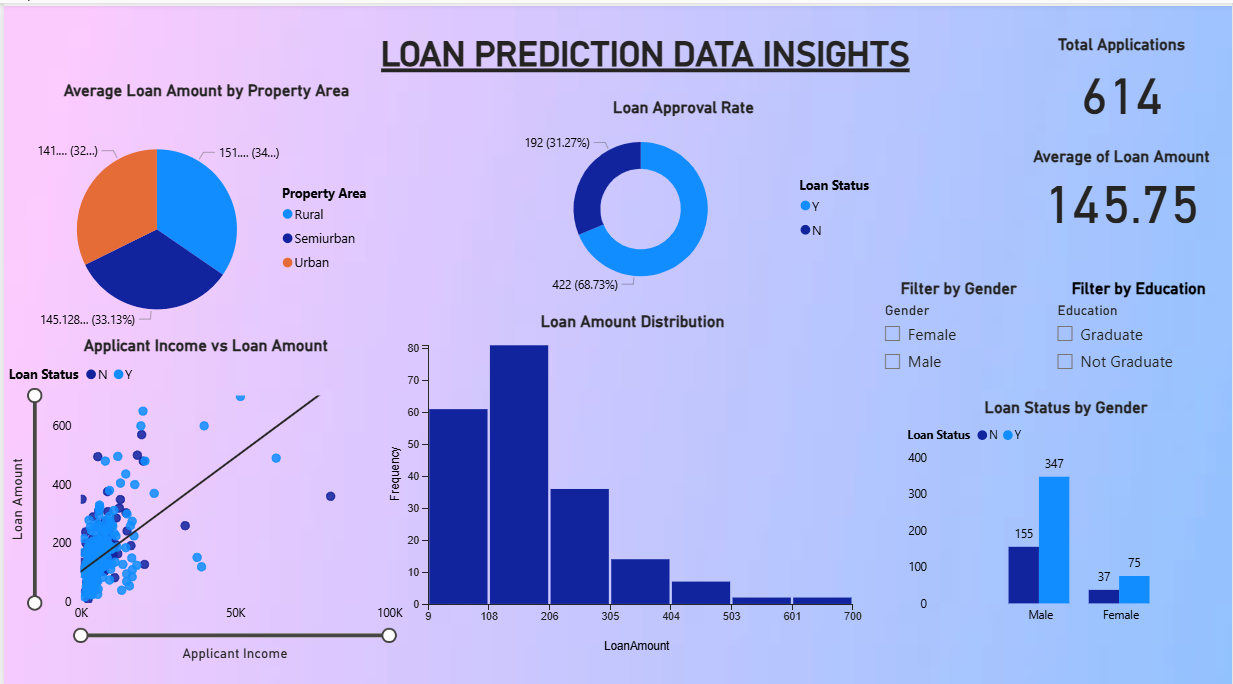

The dashboard page shown, as its layout file describes it:
{"tool":"powerbi","page":{"name":"Page 1","canvas":[1280,720],"ordinal":0},"visuals":[{"type":"clusteredColumnChart","title":"Loan Status by Gender","fields":{"Category":["LOAN PREDICTION DATASET (2).Gender"],"Y":["CountNonNull(LOAN PREDICTION DATASET (2).Loan_Status)"],"Series":["LOAN PREDICTION DATASET (2).Loan_Status"]},"box":[936.2,411.1,340.7,253.2],"z":0},{"type":"scatterChart","title":"Applicant Income vs Loan Amount ","fields":{"X":["LOAN PREDICTION DATASET (2).ApplicantIncome"],"Y":["LOAN PREDICTION DATASET (2).LoanAmount"],"Series":["LOAN PREDICTION DATASET (2).Loan_Status"]},"box":[0,347,420.4,343.9],"z":1000},{"type":"Histogram1445664487616","title":"Loan Amount Distribution","fields":{"Values":["LOAN PREDICTION DATASET (2).LoanAmount"]},"box":[386.1,322,537.7,368.9],"z":2000},{"type":"donutChart","title":"Loan Approval Rate","fields":{"Category":["LOAN PREDICTION DATASET (2).Loan_Status"],"Y":["CountNonNull(LOAN PREDICTION DATASET (2).Loan_ID)"]},"box":[492.3,98.5,431.4,212.6],"z":3000},{"type":"pieChart","title":"Average Loan Amount by Property Area","fields":{"Y":["Avg(LOAN PREDICTION DATASET (2).LoanAmount)"],"Category":["LOAN PREDICTION DATASET (2).Property_Area"]},"box":[23.4,81.3,375.1,289.2],"z":4000},{"type":"slicer","title":"Filter by Gender","fields":{"Values":["LOAN PREDICTION DATASET (2).Gender"]},"box":[905,287.6,179.7,114.1],"z":5000},{"type":"slicer","title":"Filter by Education","fields":{"Values":["LOAN PREDICTION DATASET (2).Education"]},"box":[1084.7,287.6,195.4,123.5],"z":6000},{"type":"card","title":"Total Applications","fields":{"Values":["CountNonNull(LOAN PREDICTION DATASET (2).Loan_ID)"]},"box":[1091,32.8,146.9,95.3],"z":7000},{"type":"card","title":"Average of Loan Amount","fields":{"Values":["Avg(LOAN PREDICTION DATASET (2).LoanAmount)"]},"box":[1064.4,150,200.1,86],"z":8000},{"type":"textbox","title":"LOAN PREDICTION DATA INSIGHTS","box":[387.6,32.8,642.4,48.5],"z":9000}]}

Visuals, with their boxes in screenshot pixels (x1, y1, x2, y2), scaled from the page's 1280x720 canvas onto the 1233x684 screenshot:
"Loan Status by Gender" clusteredColumnChart: rect(902, 391, 1230, 631)
"Applicant Income vs Loan Amount " scatterChart: rect(0, 330, 405, 656)
"Loan Amount Distribution" Histogram1445664487616: rect(372, 306, 890, 656)
"Loan Approval Rate" donutChart: rect(474, 94, 890, 296)
"Average Loan Amount by Property Area" pieChart: rect(23, 77, 384, 352)
"Filter by Gender" slicer: rect(872, 273, 1045, 382)
"Filter by Education" slicer: rect(1045, 273, 1232, 391)
"Total Applications" card: rect(1051, 31, 1192, 122)
"Average of Loan Amount" card: rect(1025, 142, 1218, 224)
"LOAN PREDICTION DATA INSIGHTS" textbox: rect(373, 31, 992, 77)
